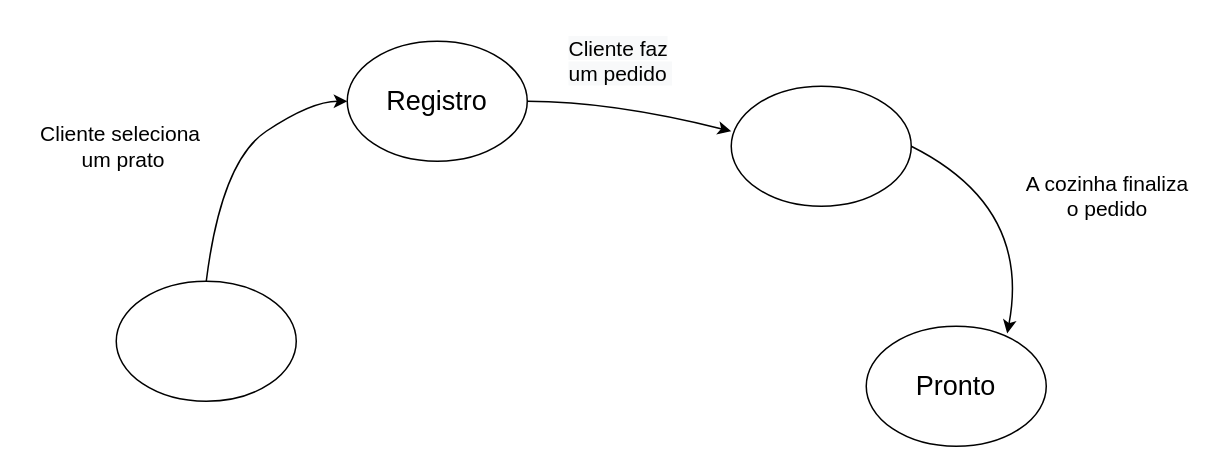
The diagram is 1221 pixels wide and 473 high, and some of its shapes have lost their labels. The shapes that lost their labels are listed below. From the top down, each one's box as (x1, y1, x2, y2) in pixels, then its label:
(730, 85, 911, 206): Espera
(115, 280, 296, 401): Cardápio
